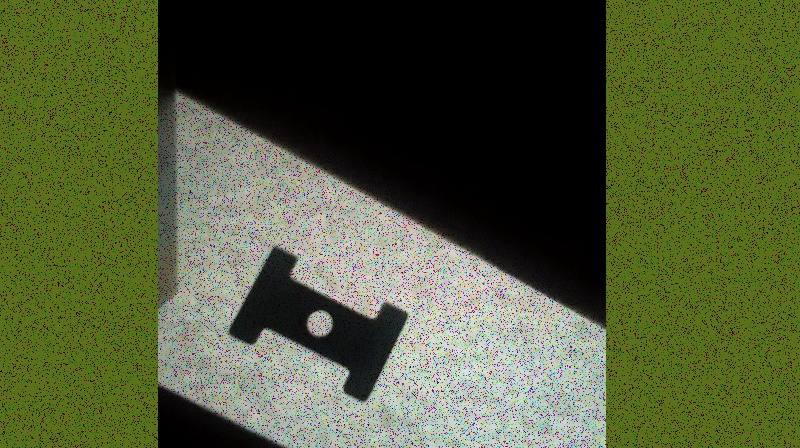O002: (225, 241, 412, 404)
